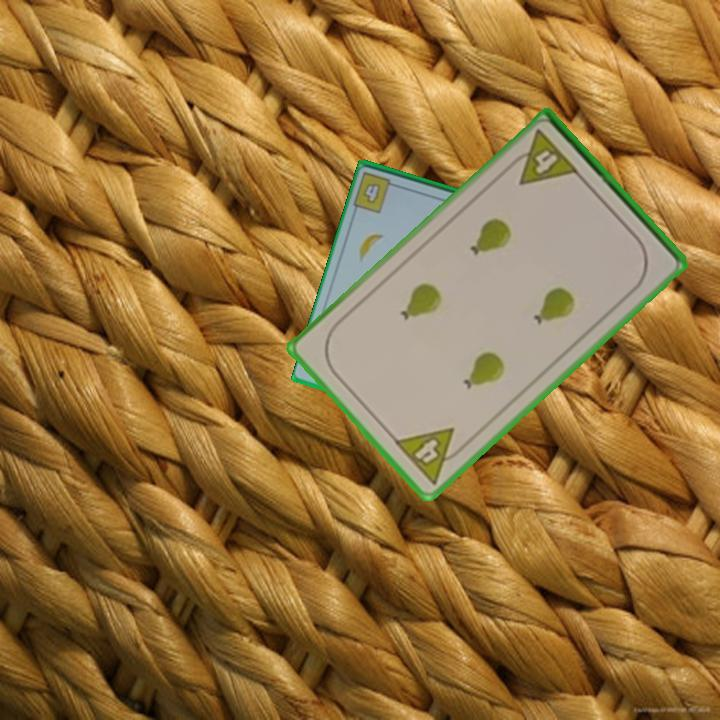4b: (350, 169, 402, 216)
4p: (390, 424, 471, 488), (503, 126, 582, 189)
